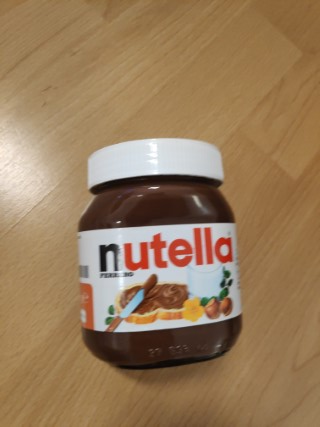nutella: (75, 136, 243, 370)
